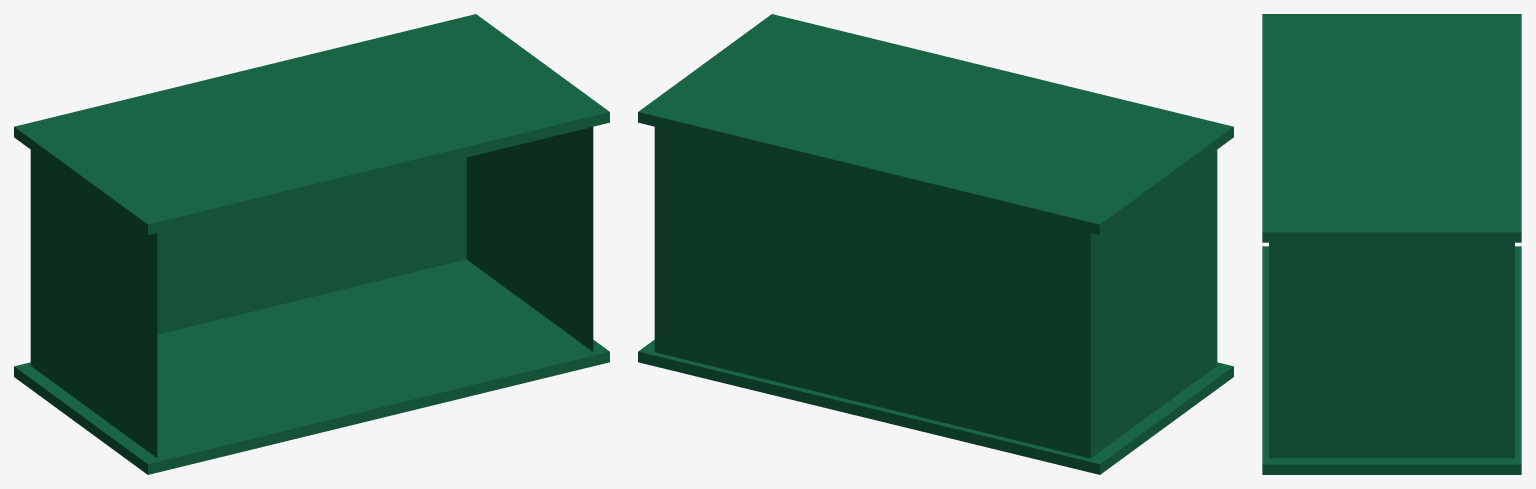
The model's file is cuerpoBuro.OBJ.
The picture shows the model from 3 angles, left to right: view 1: azimuth 30°, elevation 25°; view 2: azimuth 150°, elevation 25°; view 3: azimuth 270°, elevation 25°; orthographic projection. The views are drawn at different scales.
Visible parts, largest first — view 1: pCube9; view 2: pCube9; view 3: pCube9.
Part boxes in pixels (x1=…): pCube9: x1=14, y1=14, x2=609, y2=474; pCube9: x1=638, y1=14, x2=1233, y2=474; pCube9: x1=1262, y1=14, x2=1521, y2=474.
Size of the model in its own units: 2.1 by 1.09 by 1.06.
1 material, 1 textured.
